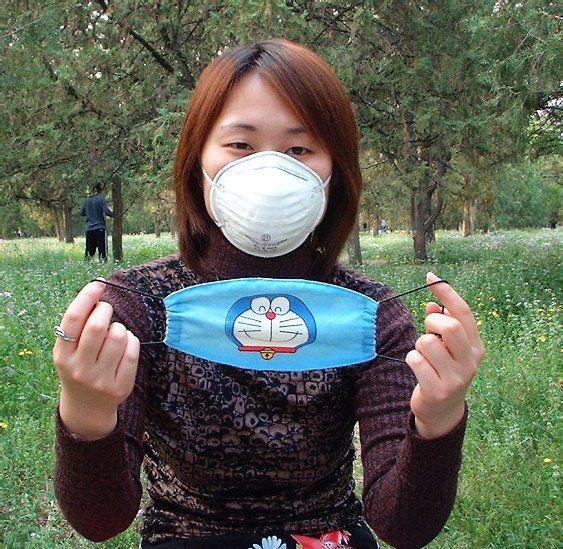OK: (195, 112, 342, 259)
